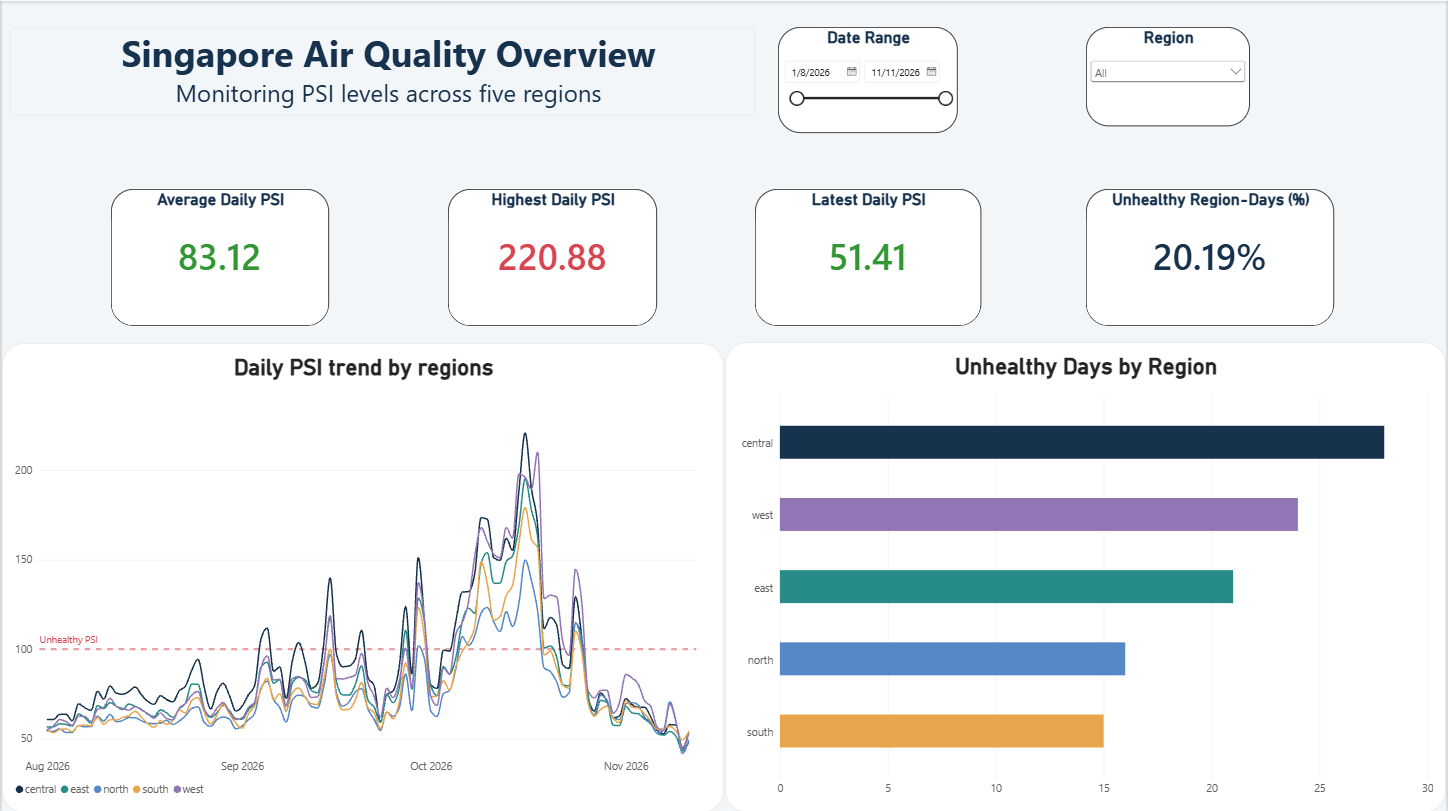

What the dashboard file says about the page in this screenshot:
{"tool":"powerbi","page":{"name":"Air Quality Overview","canvas":[1920,1080],"ordinal":0},"visuals":[{"type":"lineChart","title":"Daily PSI trend by regions","fields":{"Category":["public haze_psi.Date"],"Series":["public haze_psi.Region"],"Y":["public haze_psi.PSI Reading"]},"box":[0,454.9,960.3,625.1],"z":0},{"type":"cardVisual","title":"Average Daily PSI","fields":{"Data":["public haze_psi.Average Daily PSI"]},"box":[145,250,290,182.2],"z":1000},{"type":"cardVisual","title":"Highest Daily PSI","fields":{"Data":["public haze_psi.Highest Daily PSI"]},"box":[593.2,250,278,182.2],"z":2000},{"type":"cardVisual","title":"Latest Daily PSI","fields":{"Data":["public haze_psi.Latest Daily PSI"]},"box":[1001.5,250,300.6,182.2],"z":3000},{"type":"slicer","title":"Date Range","fields":{"Values":["public haze_psi.Date"]},"box":[1032.1,34.6,239.4,141],"z":4000},{"type":"slicer","title":"Region","fields":{"Values":["public haze_psi.Region"]},"box":[1441.8,34.6,218.1,131.7],"z":5000},{"type":"clusteredBarChart","title":"Unhealthy Days by Region","fields":{"Category":["public haze_psi.Region"],"Y":["public haze_psi.Unhealthy Region-Days"]},"box":[961.6,453.5,959.2,625.9],"z":6000},{"type":"cardVisual","title":"Unhealthy Region-Days (%)","fields":{"Data":["public haze_psi.Unhealthy Region-Days (%)"]},"box":[1441.8,250,329.9,182.2],"z":7000},{"type":"textbox","box":[10.6,34.6,990.9,118.4],"z":8000}]}

Visuals, with their boxes in screenshot pixels (x1, y1, x2, y2), scaled from the page's 1920x1080 canvas onto the 1448x811 screenshot:
"Daily PSI trend by regions" lineChart: bbox(0, 342, 724, 810)
"Average Daily PSI" cardVisual: bbox(109, 188, 328, 325)
"Highest Daily PSI" cardVisual: bbox(447, 188, 657, 325)
"Latest Daily PSI" cardVisual: bbox(755, 188, 982, 325)
"Date Range" slicer: bbox(778, 26, 959, 132)
"Region" slicer: bbox(1087, 26, 1252, 125)
"Unhealthy Days by Region" clusteredBarChart: bbox(725, 341, 1447, 810)
"Unhealthy Region-Days (%)" cardVisual: bbox(1087, 188, 1336, 325)
textbox: bbox(8, 26, 755, 115)
